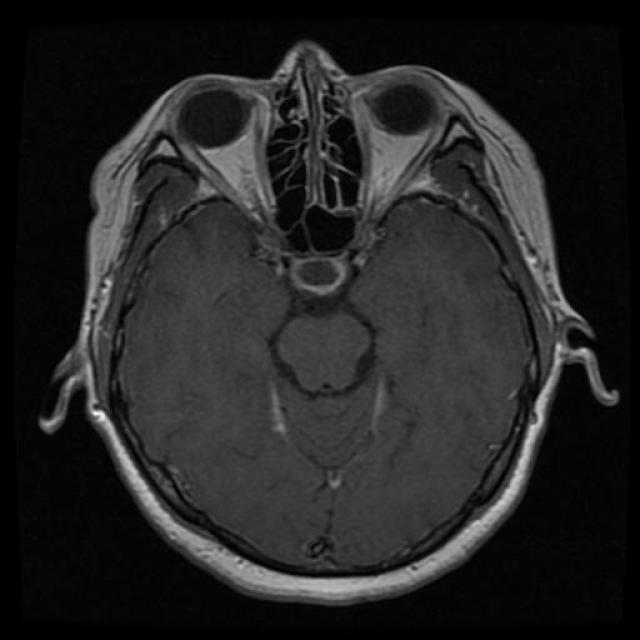pituitary: (270, 255, 370, 322)
